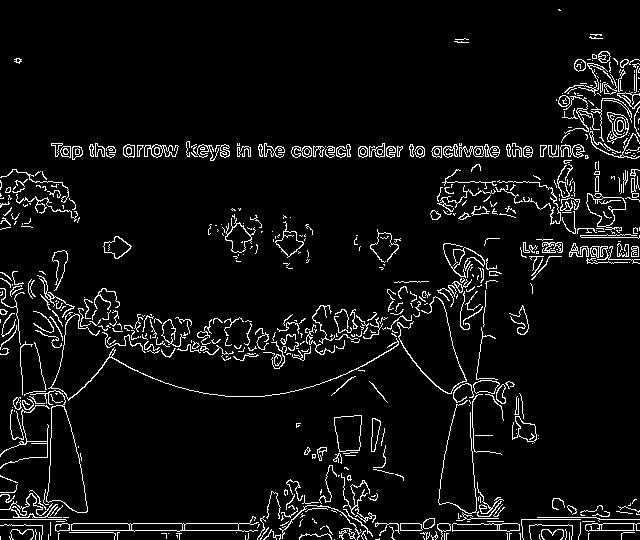down: (362, 229, 406, 266), (271, 223, 310, 261)
right: (96, 230, 137, 264)
up: (215, 217, 259, 261)
